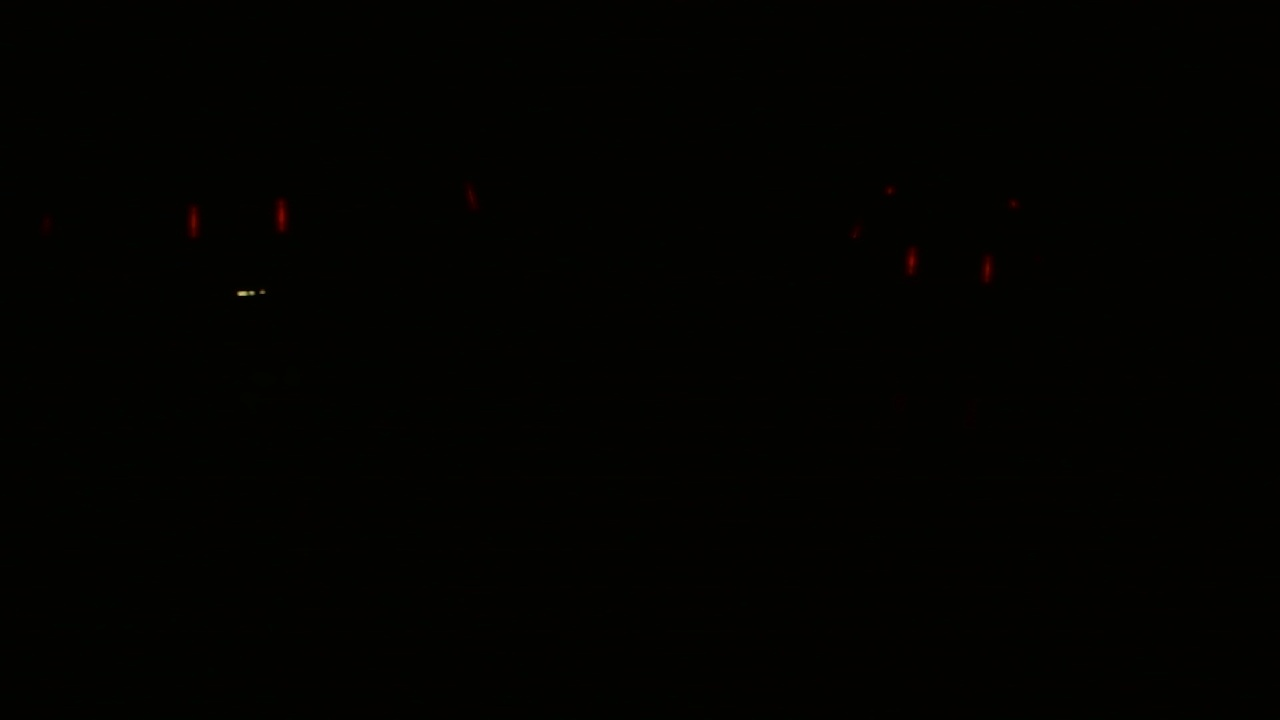pair1: (173, 192, 299, 249)
pair2: (895, 236, 1000, 295)
